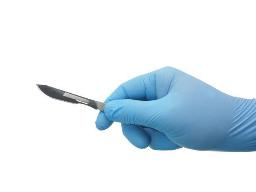scalpel: (36, 83, 108, 113)
